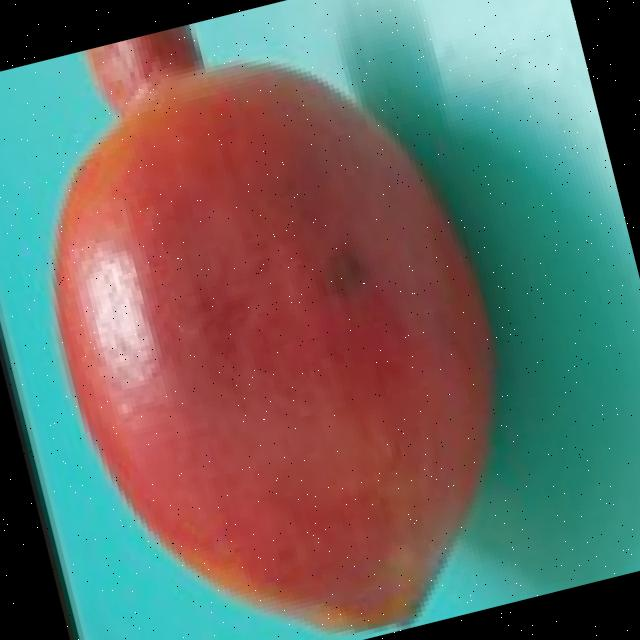Bad_Pomegranate-0-1-day: (0, 0, 559, 640)
